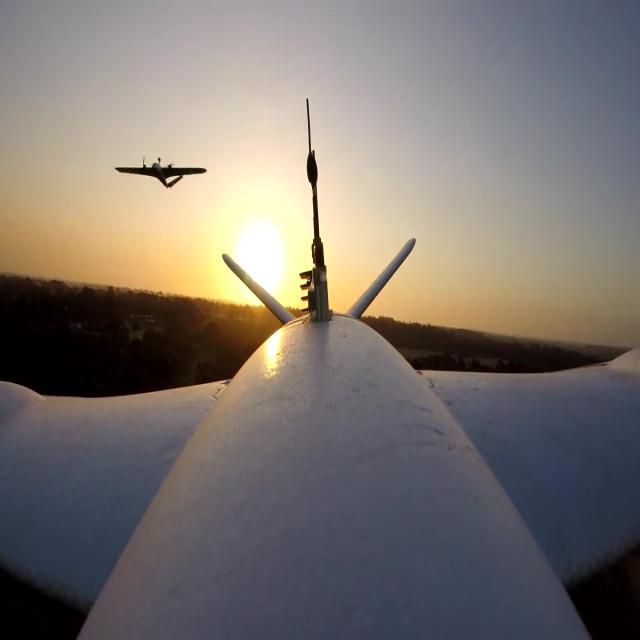iha: (148, 152, 175, 190)
